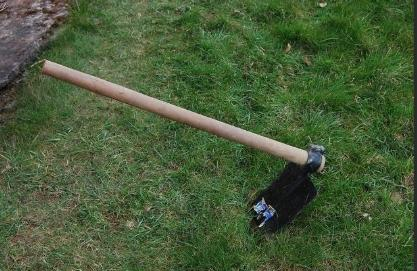HOUE: (31, 59, 339, 256)
